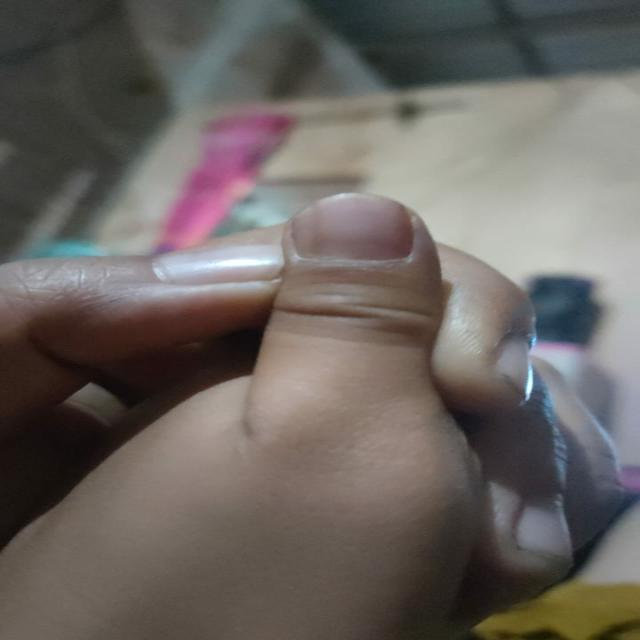sehat: (292, 199, 413, 261), (149, 244, 284, 283)
